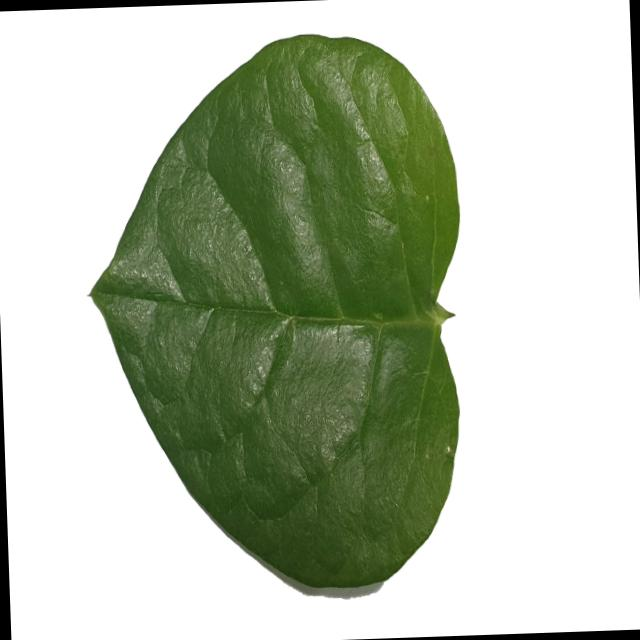Medicinal-Basale: (76, 26, 472, 595)
